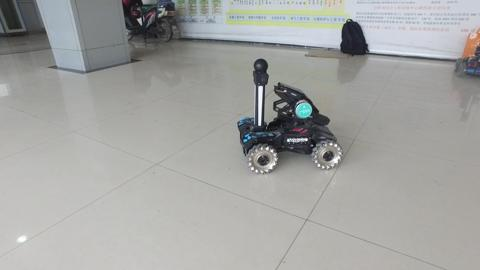bag: (338, 18, 371, 58)
chariot: (232, 57, 345, 174)
